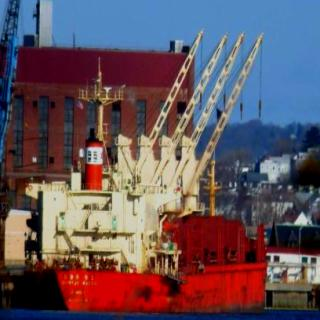Bulk Carrier: (0, 168, 276, 308)
